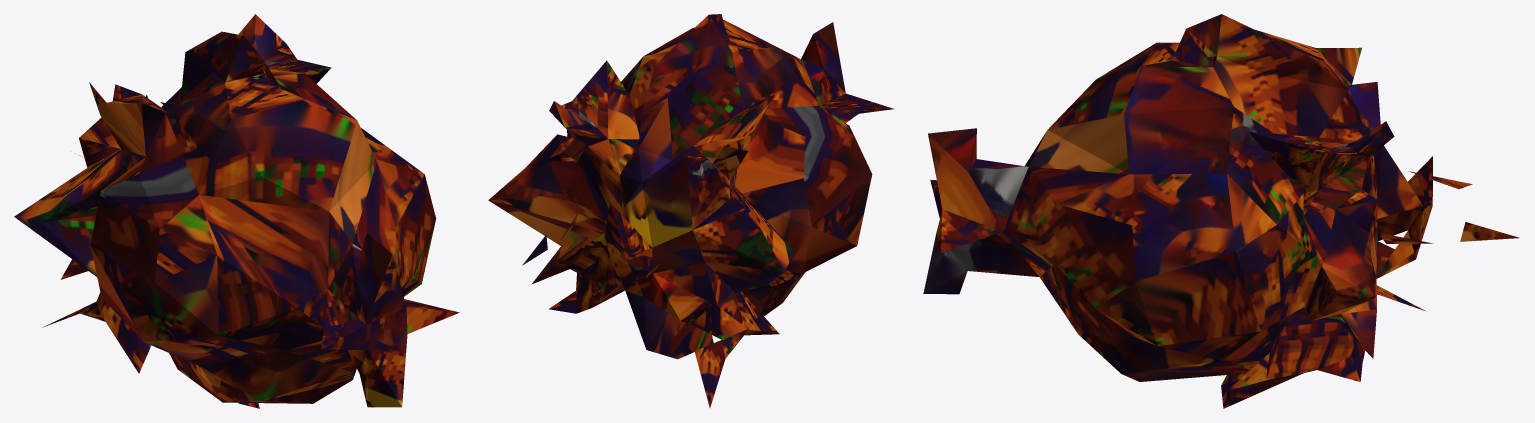
The picture shows the model from 3 angles, left to right: view 1: azimuth 30°, elevation 25°; view 2: azimuth 150°, elevation 25°; view 3: azimuth 270°, elevation 25°; orthographic projection. The views are drawn at different scales.
Visible parts, largest first — view 1: ai_model; view 2: ai_model; view 3: ai_model.
Boxes of the visible parts, bbox=[...] form: ai_model: bbox=[14, 14, 459, 408]; ai_model: bbox=[488, 14, 893, 407]; ai_model: bbox=[923, 14, 1519, 408].
Size of the model in its own units: 0.5639 by 0.621 by 0.8699.
